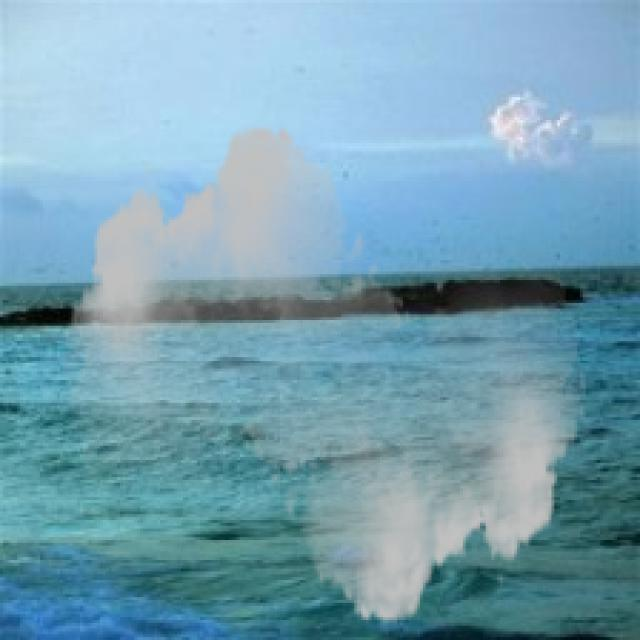Smoke: (62, 108, 588, 638)
